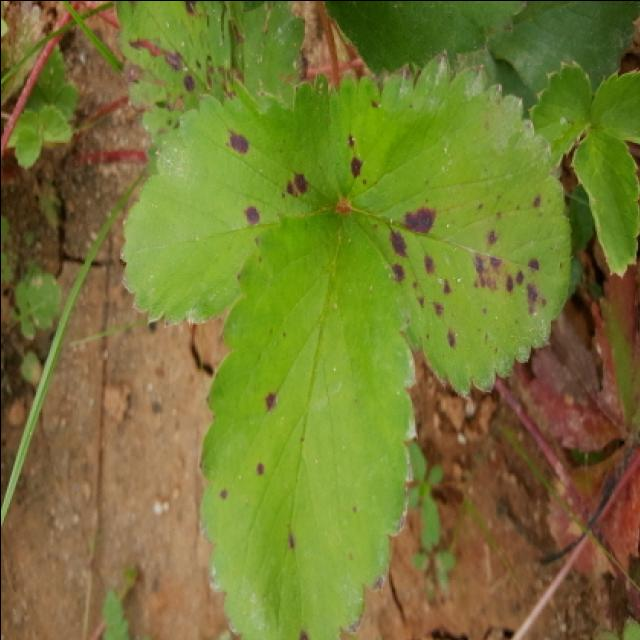Leaf Spot: (197, 205, 419, 640), (328, 49, 571, 396), (118, 71, 338, 326), (114, 2, 306, 141)
